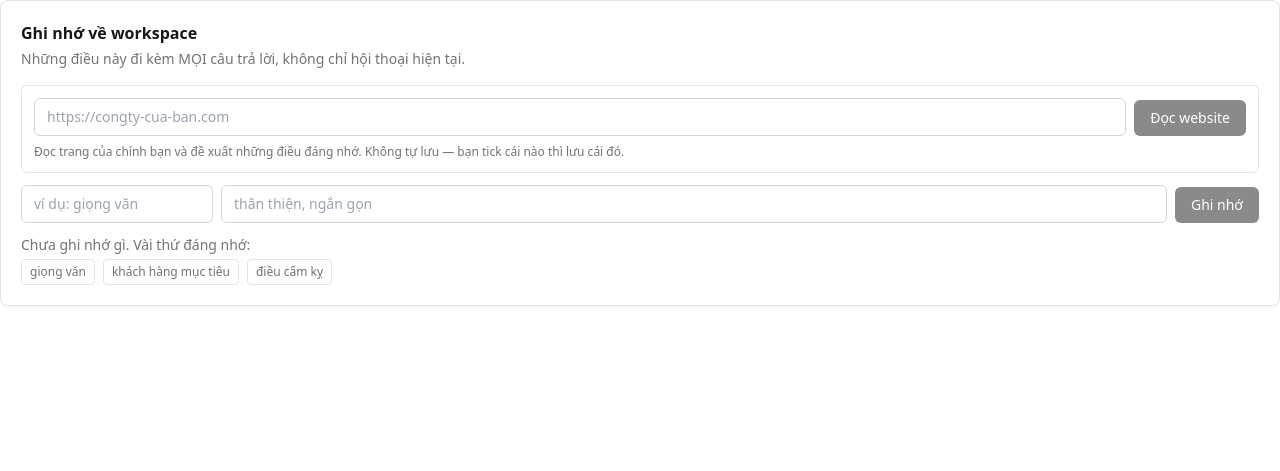
Test case: MemoryPanel — reading the workspace's own site › clears the proposal once it has been saved
The width and height of the screenshot is (1280, 471).
Step 1. Type "https://tiximax.net/" into the field with placeholder "https://congty-cua-ban.com" → (580, 117), box [34, 98, 1126, 136]
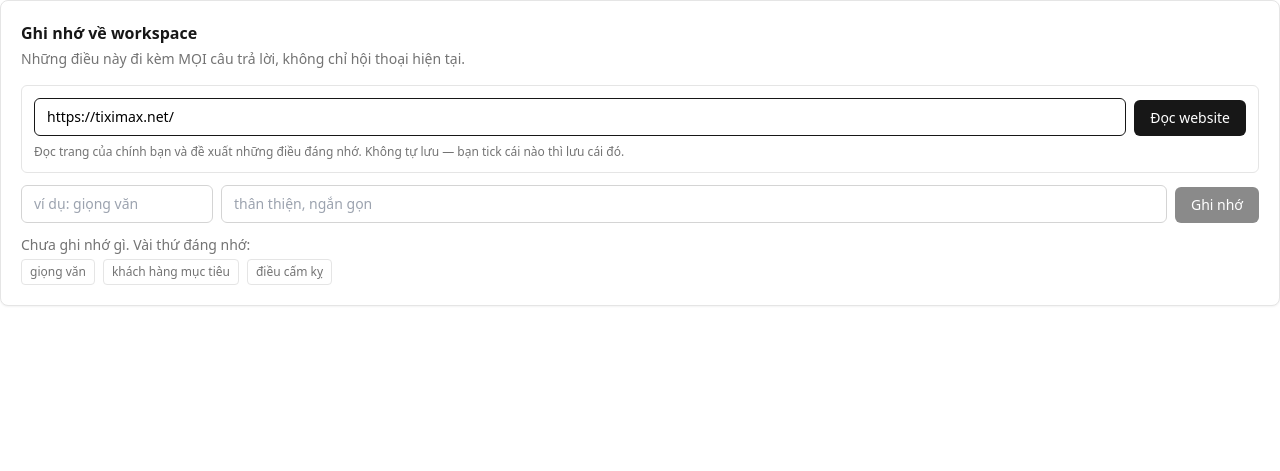
Step 2. Click the button "Đọc website" → (1190, 118), box [1134, 100, 1246, 136]
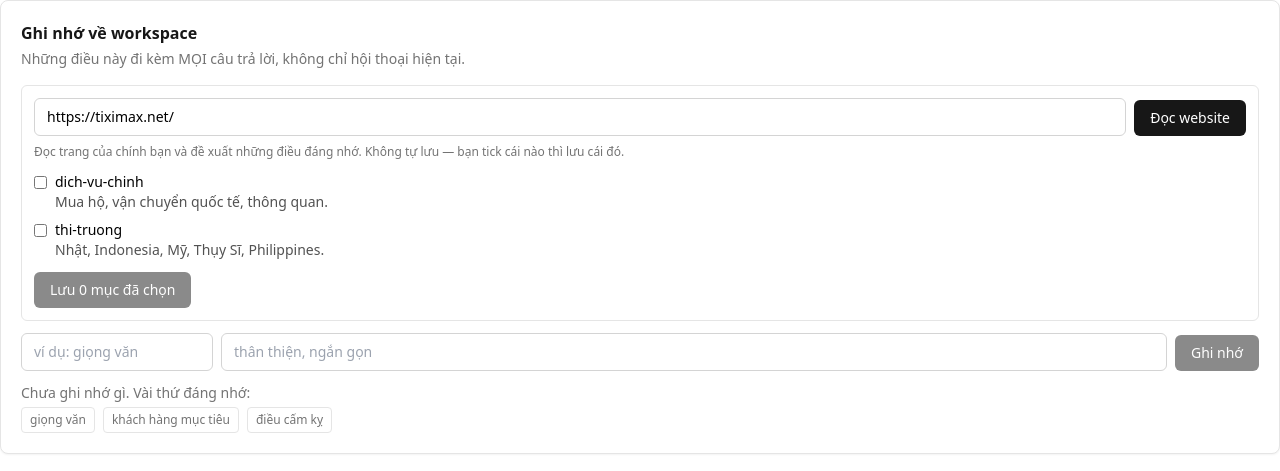
Result: the text "dich-vu-chinh" is shown at [55, 172, 144, 191]
Step 3. Click the checkbox labelled "dich-vu-chinh Mua hộ, vận chuyển quốc tế, thông quan." → (40, 182), box [34, 176, 47, 189]
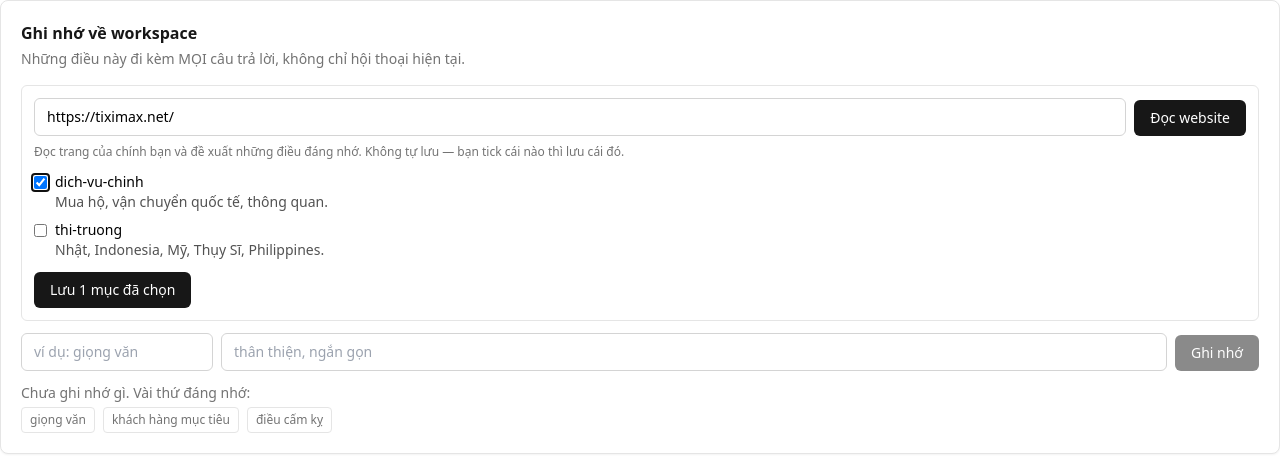
Step 4. Click the button "Lưu 1 mục đã chọn" → (113, 290), box [34, 272, 192, 308]
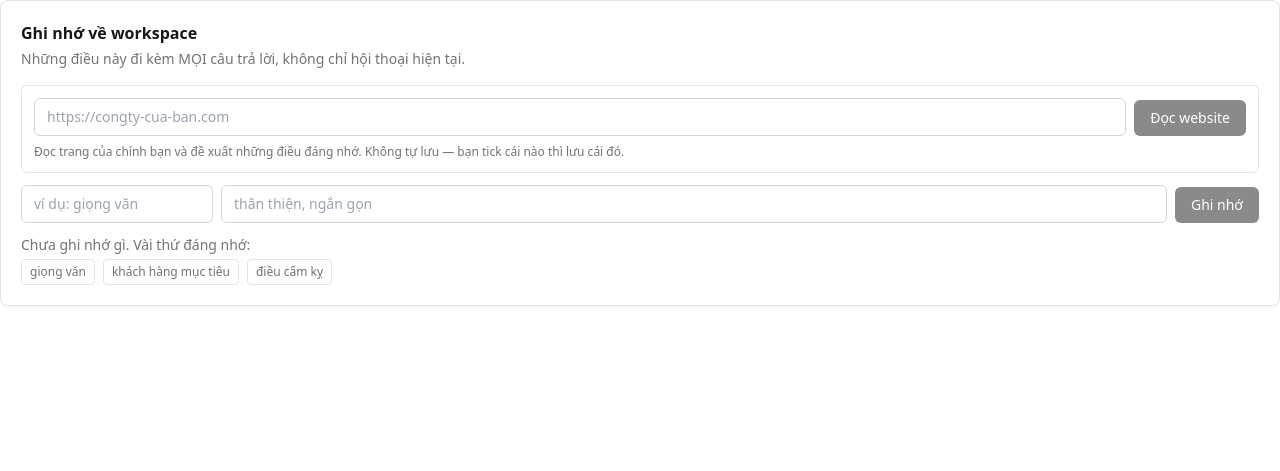
Result: the text "dich-vu-chinh" is gone
